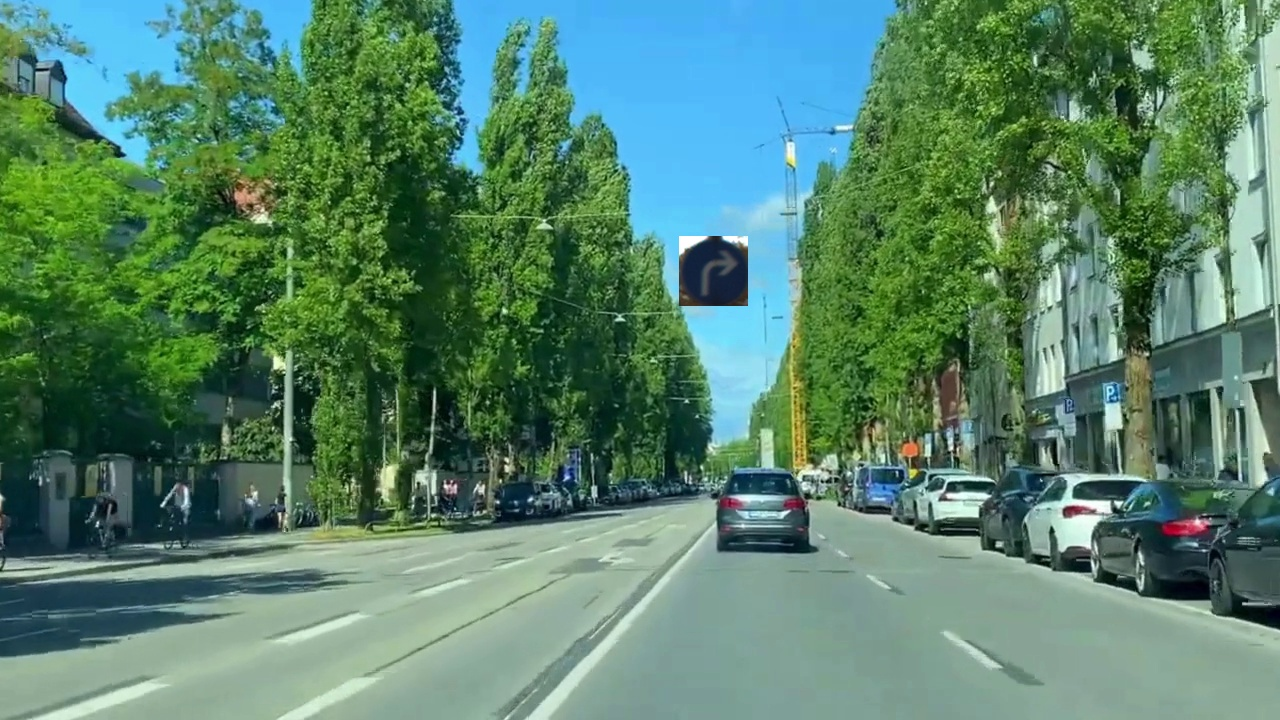Turn right: (679, 236, 748, 306)
